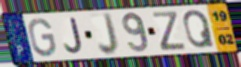9: (121, 12, 151, 54)
G: (28, 17, 58, 59)
J: (97, 11, 121, 57), (63, 16, 85, 55)
Q: (182, 9, 216, 50)
Z: (151, 10, 188, 52)
